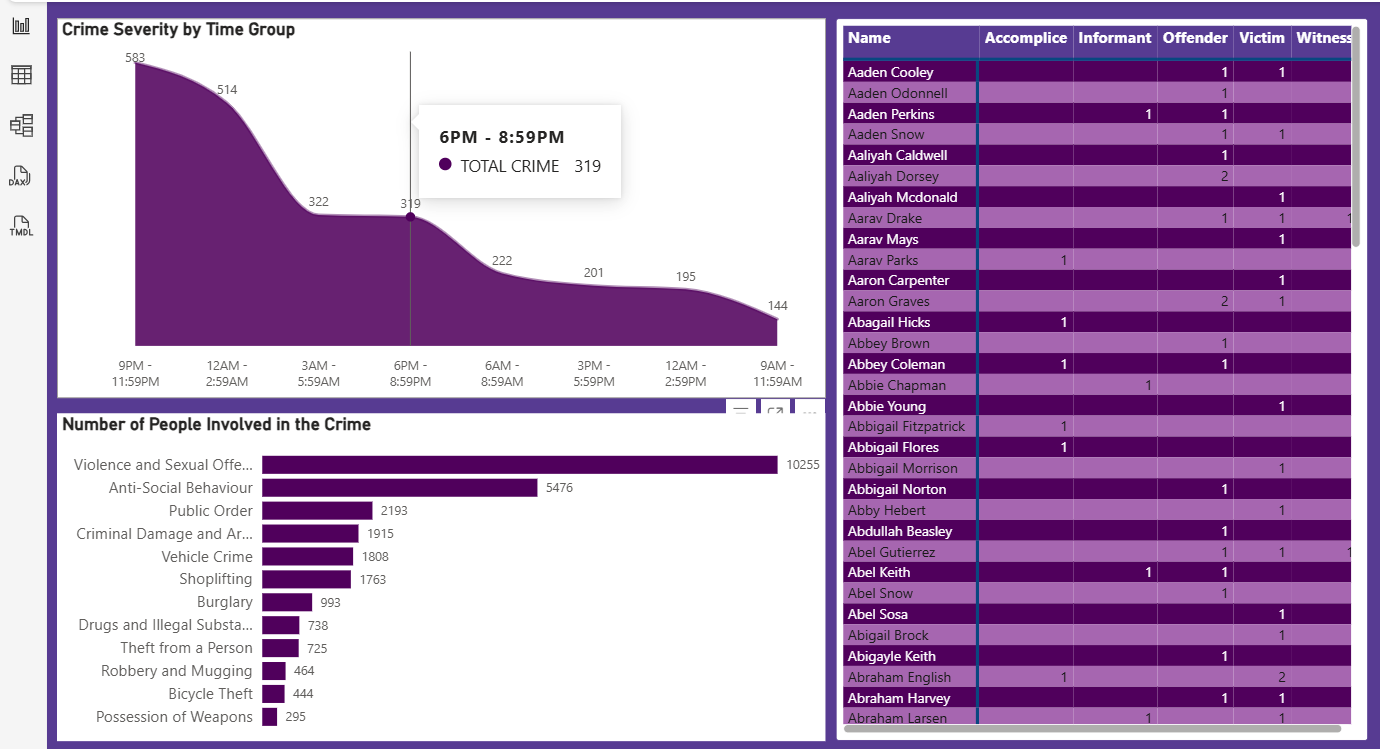

The dashboard page shown, as its layout file describes it:
{"tool":"powerbi","page":{"name":"Page 3","canvas":[1280,720],"ordinal":2},"visuals":[{"type":"lineChart","title":"Crime Severity by Time Group","fields":{"Category":["Crimes.Time Group"],"Y":["DAX.TOTAL CRIME"]},"box":[9.6,15.6,737.1,364.3],"z":0},{"type":"barChart","title":"Number of People Involved in the Crime","fields":{"Category":["Crime Types.Crime"],"Y":["Sum(Crime Person.People Involved)"]},"box":[9.6,394.3,737.1,314],"z":1},{"type":"pivotTable","fields":{"Rows":["People.Name"],"Columns":["Crime Roles.Role"],"Values":["DAX.TOTAL CRIME"]},"box":[756.3,15.6,510.6,692.7],"z":2}]}

Visuals, with their boxes in screenshot pixels (x1, y1, x2, y2):
"Crime Severity by Time Group" lineChart: left=75, top=23, right=829, bottom=396
"Number of People Involved in the Crime" barChart: left=75, top=411, right=829, bottom=732
pivotTable - People.Name x Crime Roles.Role: left=839, top=23, right=1362, bottom=732
